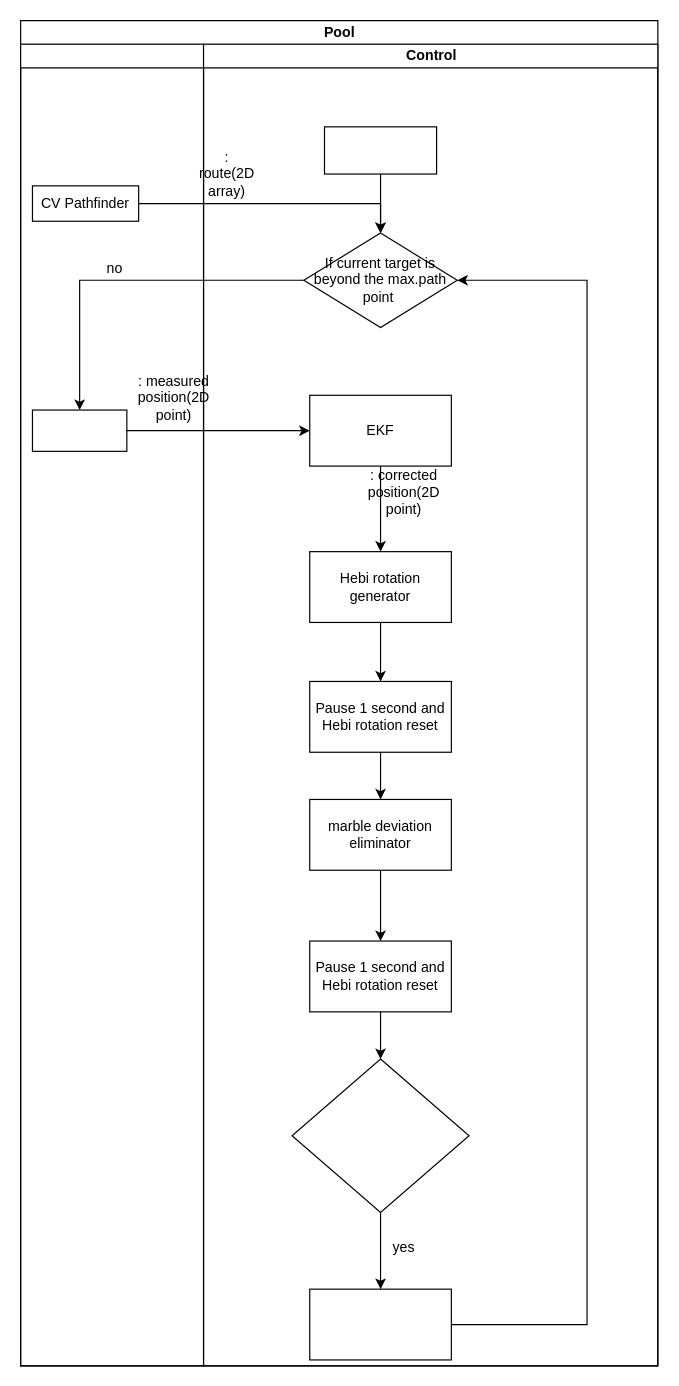
This 679x1386 diagram has some shape labels left out. The box of each missing label's shape, as (x1, y1, x2, y2) in pixels:
current target k = 2: (323, 126, 437, 174)
CV: (19, 43, 204, 1366)
CV marblefinder: (31, 409, 127, 451)
if current position is closed to the current target position: (291, 1058, 469, 1212)
update k: (309, 1288, 451, 1360)
